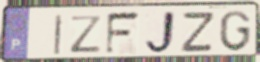F: (104, 10, 143, 57)
G: (218, 10, 252, 53)
I: (52, 14, 65, 57)
J: (143, 9, 178, 56)
Z: (179, 10, 217, 53), (69, 14, 105, 54)
